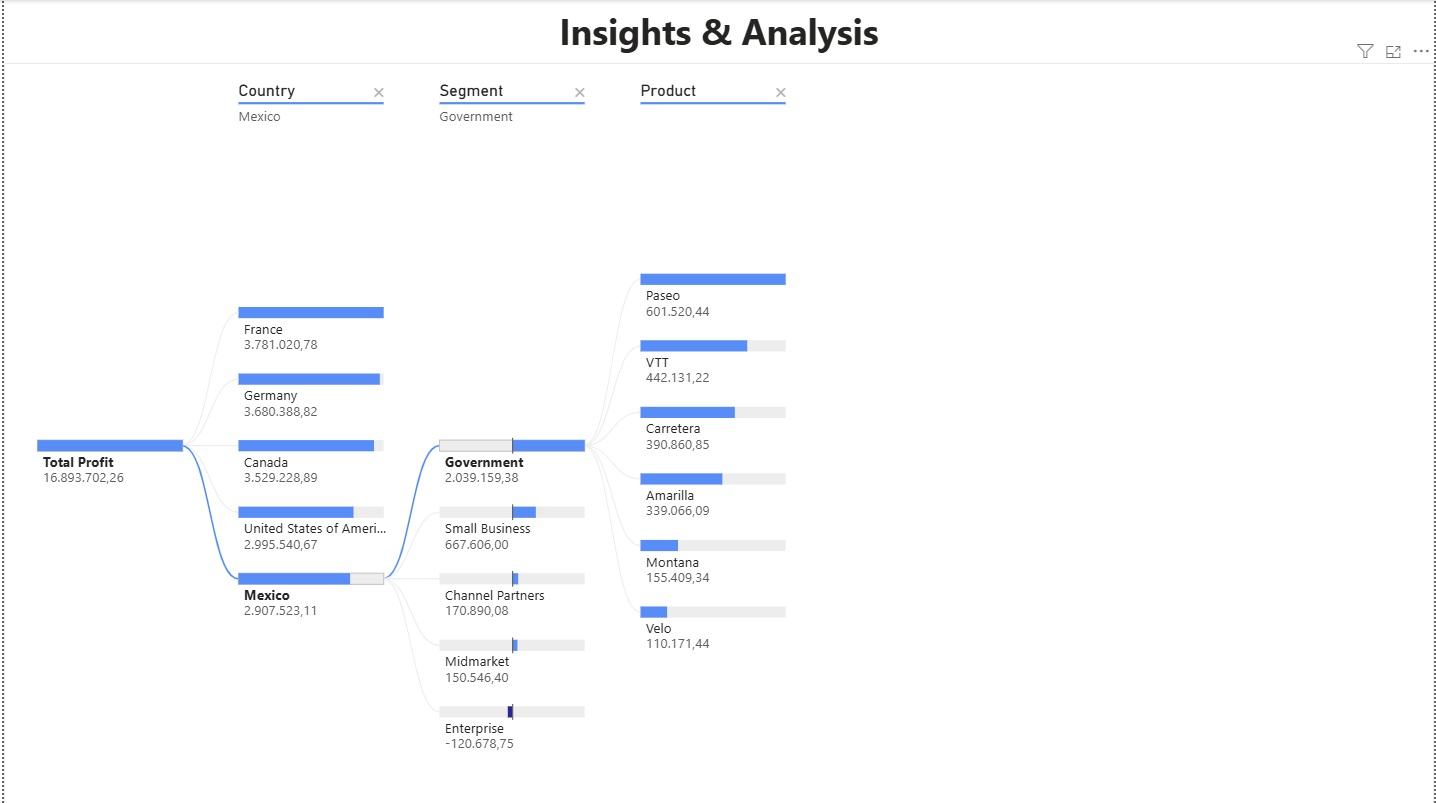

Layout of this report page (visuals, bound fields, positions):
{"tool":"powerbi","page":{"name":"Insights & Analysis","canvas":[1280,720],"ordinal":3},"visuals":[{"type":"textbox","box":[0,0,1280.3,56.7],"z":0},{"type":"decompositionTreeVisual","fields":{"Analyze":["DateTable.Total Profit"],"ExplainBy":["financials.Country","financials.Segment","financials.Product"]},"box":[0,56.7,1280.3,663.2],"z":1}]}

Visuals, with their boxes in screenshot pixels (x1, y1, x2, y2), scaled from the page's 1280x720 canvas onto the 1436x803 screenshot:
textbox: (0,0,1435,63)
decompositionTreeVisual - DateTable.Total Profit x financials.Country: (0,63,1435,802)
